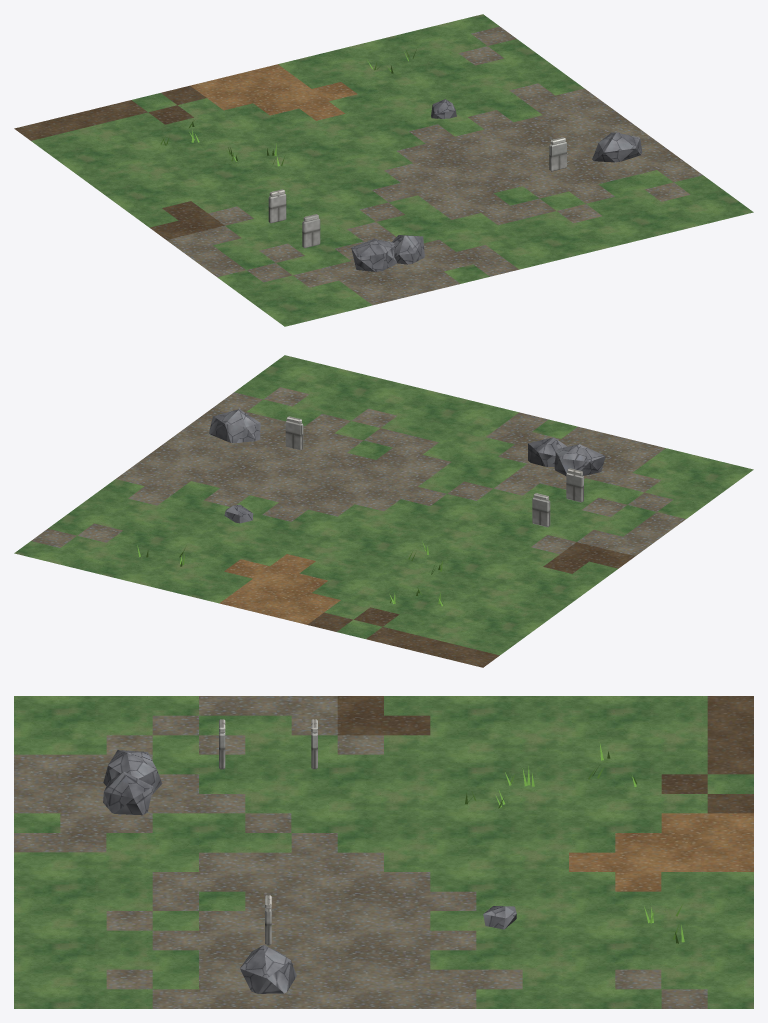
The model's file is chunk_1_21.glb.
3 renders of one model, top to bottom at view 1: azimuth 30°, elevation 25°; view 2: azimuth 150°, elevation 25°; view 3: azimuth 270°, elevation 25°, orthographic. The views are drawn at different scales.
Visible parts, largest first — view 1: chunk_1_21; view 2: chunk_1_21; view 3: chunk_1_21.
Boxes of the visible parts, x1,y1,x2,y2 form: chunk_1_21: (14, 14, 753, 326); chunk_1_21: (14, 355, 753, 667); chunk_1_21: (14, 696, 753, 1008).
Bounding box in the file's own units: 16 × 1.48 × 16.
Materials: 8 (7 with a texture image).
